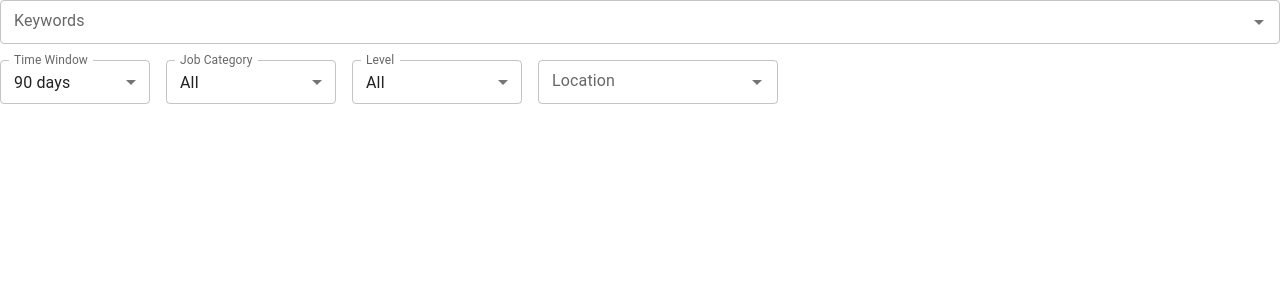
GraphFilters — the subcategory tree › (b) renders the SWE children immediately, with no expander
This screenshot has width=1280, height=300.
Step 1. Click the dropdown named "Job Category" → {"x": 189, "y": 82}, box [180, 72, 199, 92]
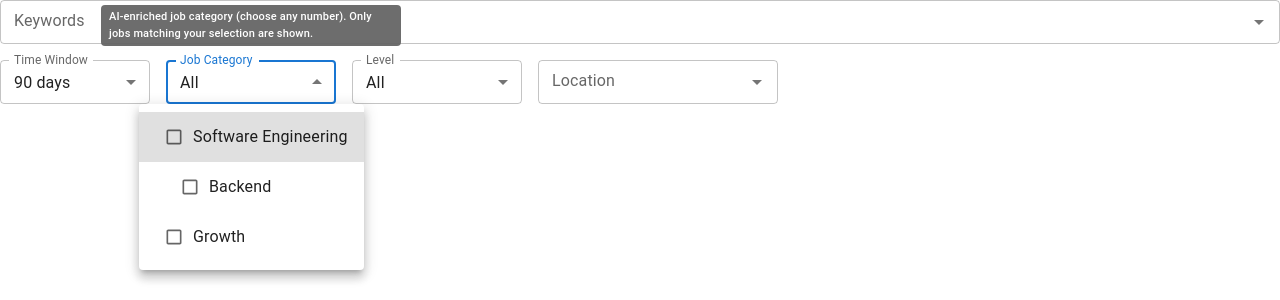
Now the option "Backend" is shown, box [180, 177, 271, 197]
